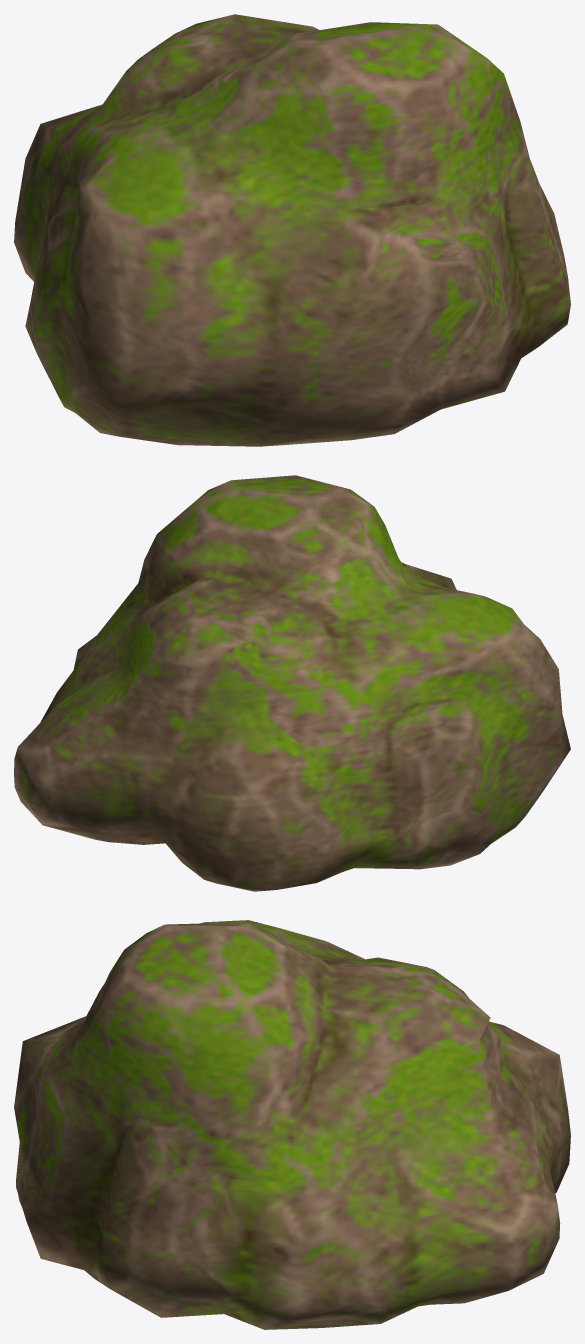
The model's file is sb_obj_nature006_Stone03a.fbx.
The picture shows the model from 3 angles, top to bottom: view 1: azimuth 30°, elevation 25°; view 2: azimuth 150°, elevation 25°; view 3: azimuth 270°, elevation 25°; orthographic projection. The views are drawn at different scales.
Parts seen in each view (by area): view 1: sb_obj_nature006_Stone03a; view 2: sb_obj_nature006_Stone03a; view 3: sb_obj_nature006_Stone03a.
Part boxes in pixels (<box>): sb_obj_nature006_Stone03a: <box>14,14,570,446</box>; sb_obj_nature006_Stone03a: <box>14,475,570,891</box>; sb_obj_nature006_Stone03a: <box>14,920,570,1329</box>.
Bounding box in the file's own units: 1.03 × 0.6464 × 0.997.
